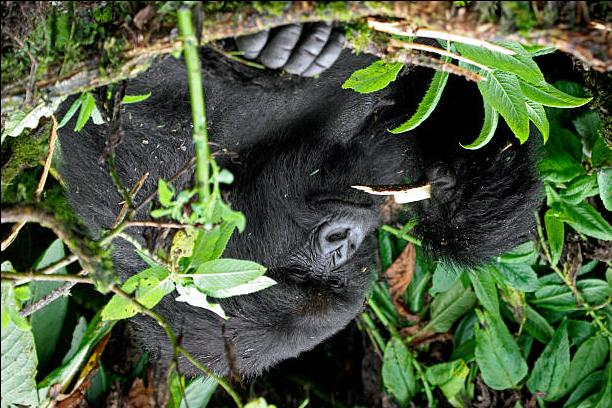goriile_montagne: (44, 66, 508, 404)
